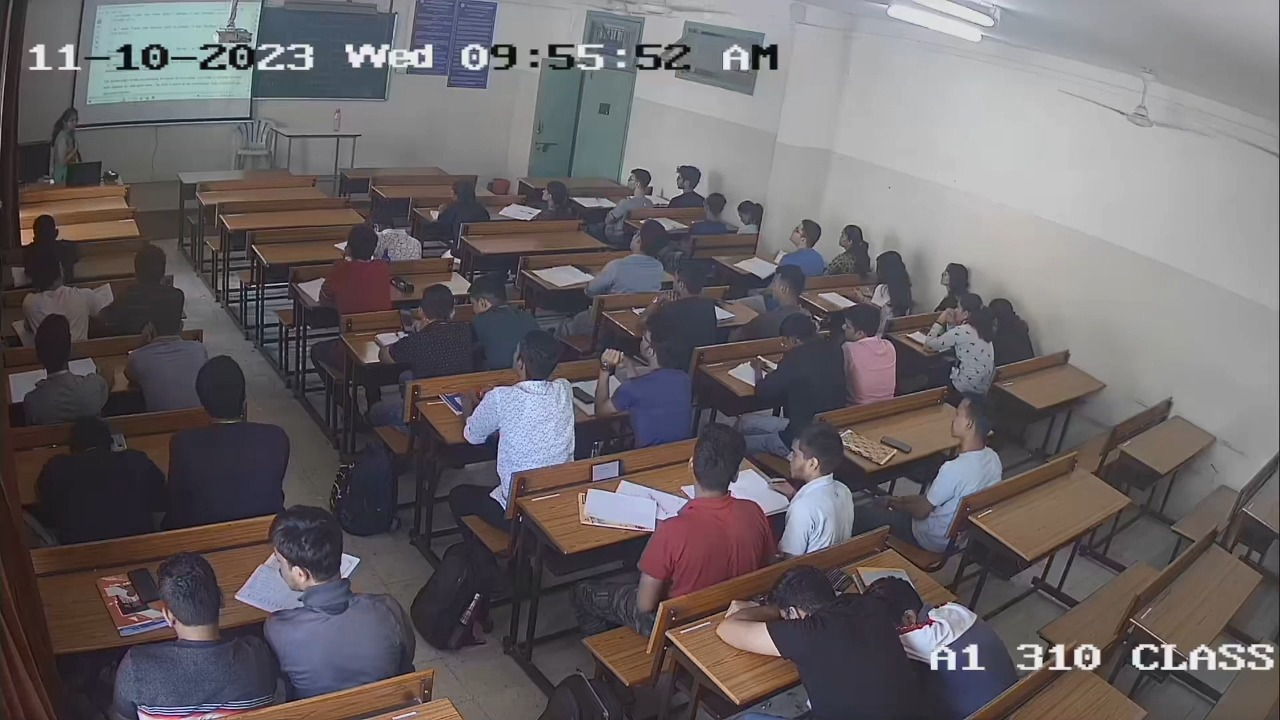cell-phones: (127, 566, 162, 604), (589, 458, 623, 484), (880, 434, 913, 455), (751, 353, 777, 374), (568, 387, 597, 405), (399, 306, 416, 335)
person: (110, 549, 280, 720), (633, 421, 776, 602), (589, 311, 694, 442), (915, 391, 1007, 532), (385, 282, 473, 380), (760, 312, 848, 406)
